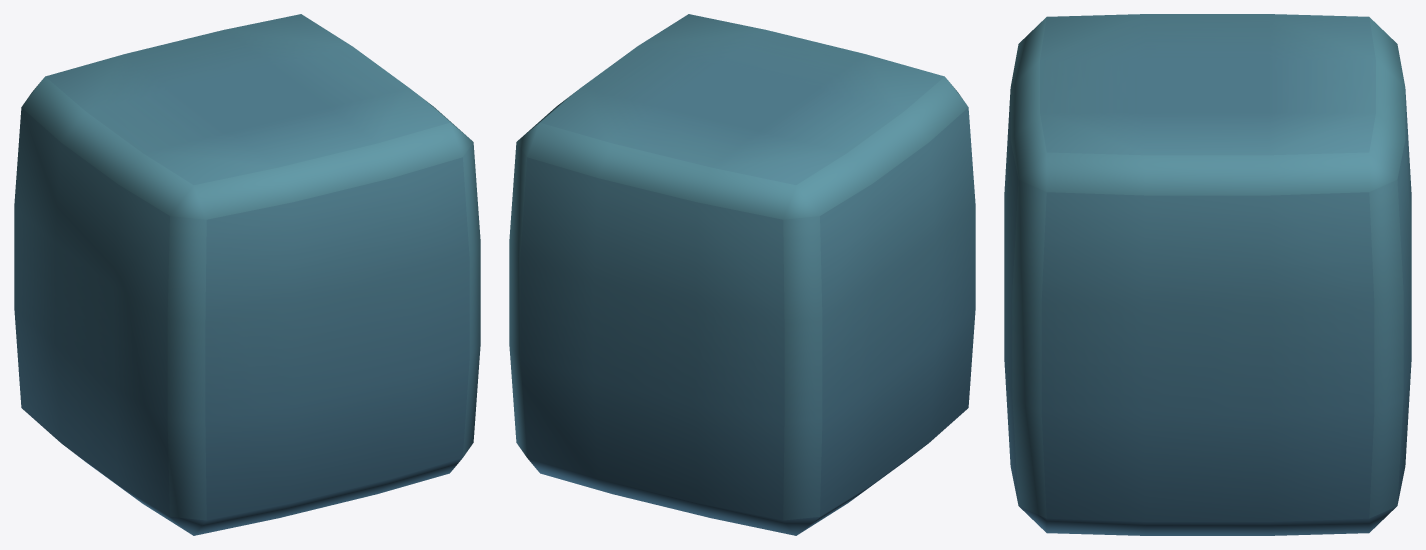
The model's file is cube_1m_light.fbx.
3 views of the same model, side by side, from view 1: azimuth 30°, elevation 25°; view 2: azimuth 150°, elevation 25°; view 3: azimuth 270°, elevation 25° (orthographic). The views are drawn at different scales.
Visible parts, largest first — view 1: cube_1m_light; view 2: cube_1m_light; view 3: cube_1m_light.
Boxes of the visible parts, left/top/right/bottom form: cube_1m_light: left=14, top=14, right=480, bottom=535; cube_1m_light: left=509, top=14, right=975, bottom=535; cube_1m_light: left=1004, top=14, right=1411, bottom=535.
Size of the model in its own units: 112 by 115 by 112.
